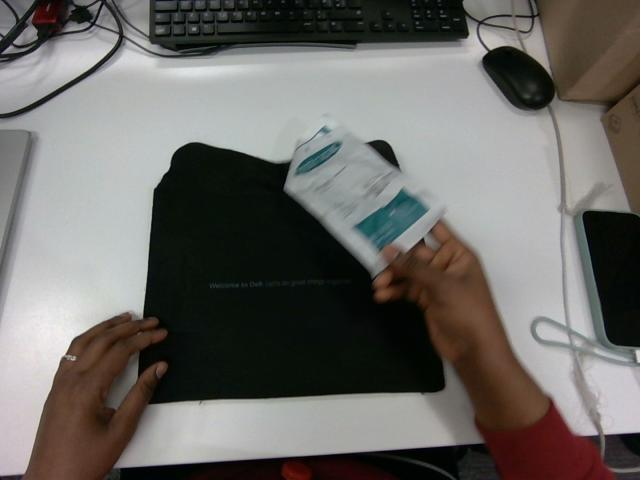gallipot: (284, 117, 443, 275)
